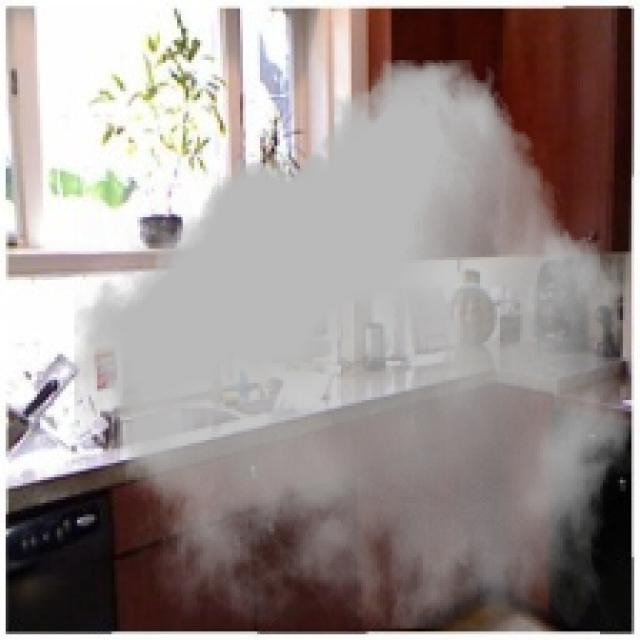smoke: (75, 60, 634, 629)
